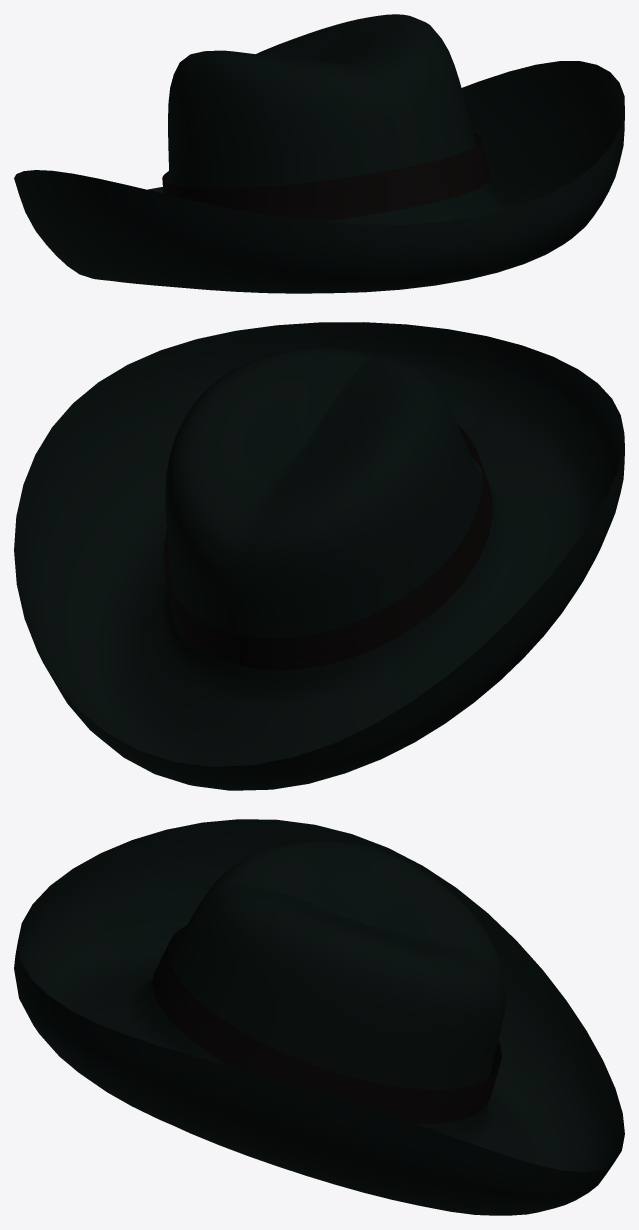
File: hat.battered-brim.glb
The picture shows the model from 3 angles, top to bottom: view 1: azimuth 30°, elevation 25°; view 2: azimuth 150°, elevation 25°; view 3: azimuth 270°, elevation 25°; orthographic projection. The views are drawn at different scales.
Parts seen in each view (by area): view 1: Head; view 2: Head; view 3: Head.
Boxes of the visible parts, left/top/right/bottom form: Head: left=14, top=14, right=624, bottom=293; Head: left=14, top=322, right=624, bottom=790; Head: left=14, top=819, right=624, bottom=1215.
Size of the model in its own units: 0.3867 by 0.2158 by 0.3984.
1 material, 1 textured.
